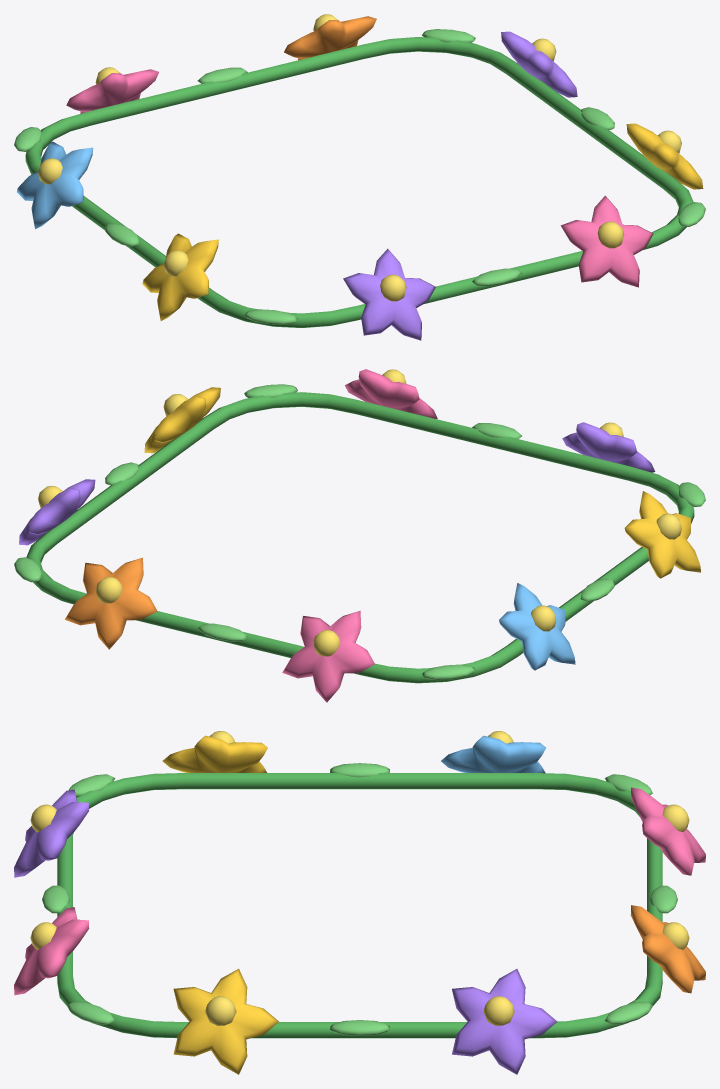
The model's file is flower_crown.glb.
The picture shows the model from 3 angles, top to bottom: view 1: azimuth 30°, elevation 25°; view 2: azimuth 150°, elevation 25°; view 3: azimuth 270°, elevation 25°; orthographic projection. The views are drawn at different scales.
Parts seen in each view (by area): view 1: vine, flower.007, flower, flower.005, flower.006, flower.004, flower.003, flower.001, flower.002, leaf.006, leaf.007, mid (+5 smaller); view 2: vine, flower.003, flower.004, flower.005, flower.006, flower.007, flower, flower.002, flower.001, leaf.004, leaf.003, mid.003 (+3 smaller); view 3: vine, flower.002, flower.001, flower.005, flower.006, flower.007, flower, flower.003, flower.004, leaf.001, mid.002, mid.001 (+6 smaller).
Boxes of the visible parts, <box> form: vine: <box>25,37,693,327</box>; flower.007: <box>343,248,435,340</box>; flower: <box>560,195,653,287</box>; flower.005: <box>17,141,93,229</box>; flower.006: <box>142,233,218,320</box>; flower.004: <box>66,69,158,113</box>; flower.003: <box>284,16,376,60</box>; flower.001: <box>626,123,703,189</box>; flower.002: <box>501,31,577,97</box>; leaf.006: <box>244,309,297,324</box>; leaf.007: <box>472,268,522,286</box>; mid: <box>597,221,624,248</box>; vine: <box>26,392,694,683</box>; flower.003: <box>65,557,157,649</box>; flower.004: <box>282,610,374,702</box>; flower.005: <box>499,583,575,670</box>; flower.006: <box>624,491,700,578</box>; flower.007: <box>562,422,655,472</box>; flower: <box>345,369,437,418</box>; flower.002: <box>19,479,95,545</box>; flower.001: <box>144,387,220,453</box>; leaf.004: <box>422,664,475,680</box>; leaf.003: <box>197,623,247,641</box>; mid.003: <box>95,577,122,603</box>; vine: <box>57,773,662,1038</box>; flower.002: <box>452,969,557,1074</box>; flower.001: <box>173,968,278,1074</box>; flower.005: <box>441,735,546,773</box>; flower.006: <box>162,735,267,772</box>; flower.007: <box>14,789,89,877</box>; flower: <box>14,907,89,995</box>; flower.003: <box>630,905,705,993</box>; flower.004: <box>630,787,705,875</box>; leaf.001: <box>330,1020,389,1035</box>; mid.002: <box>483,996,514,1025</box>; mid.001: <box>205,996,236,1025</box>.
Bounding box in the file's own units: 1.54 × 0.1838 × 1.54.
